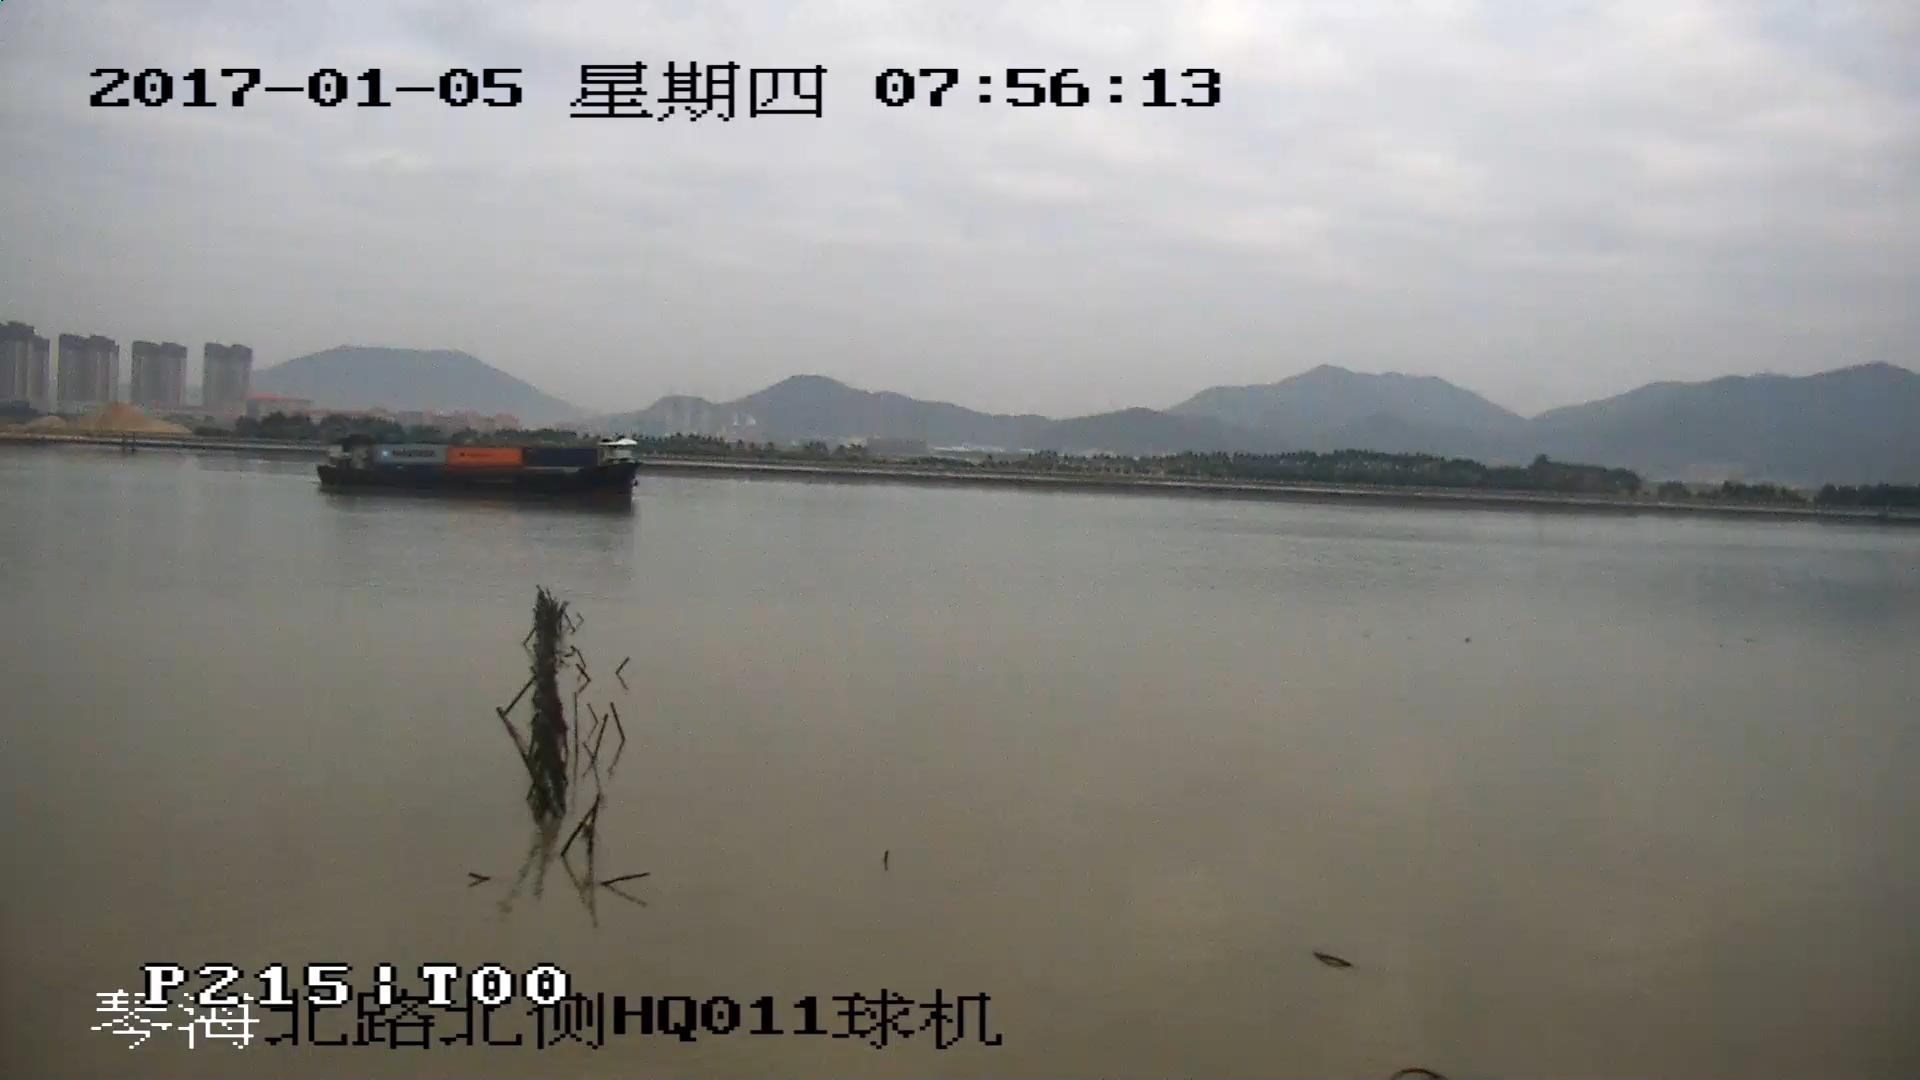container ship: (319, 436, 640, 503)
